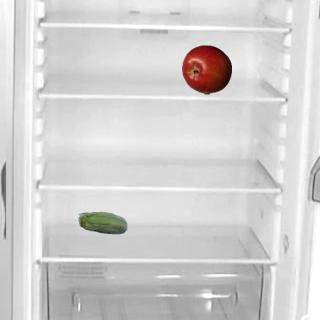Apple Braeburn: (181, 44, 231, 94)
Corn Husk: (77, 199, 127, 249)
